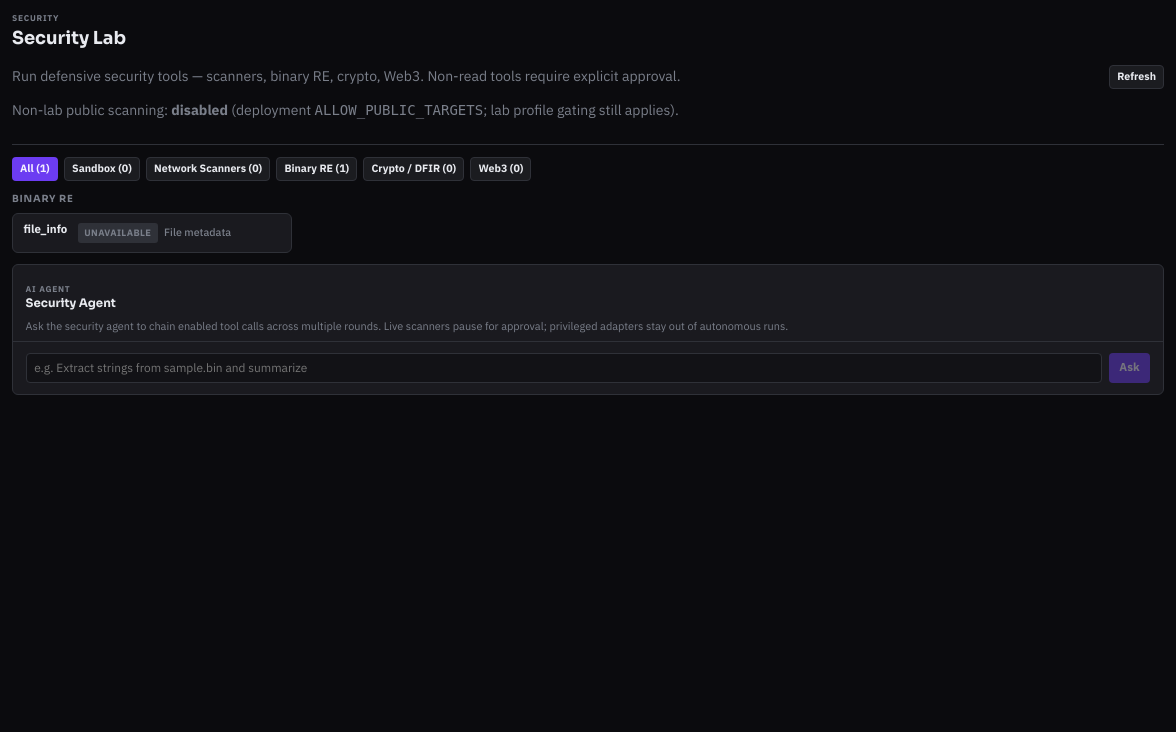
Scenario: Security Lab capability gating › fails closed when an older capability matrix omits readiness
Click the text "file_info" at (45, 229), box [24,223,67,236]
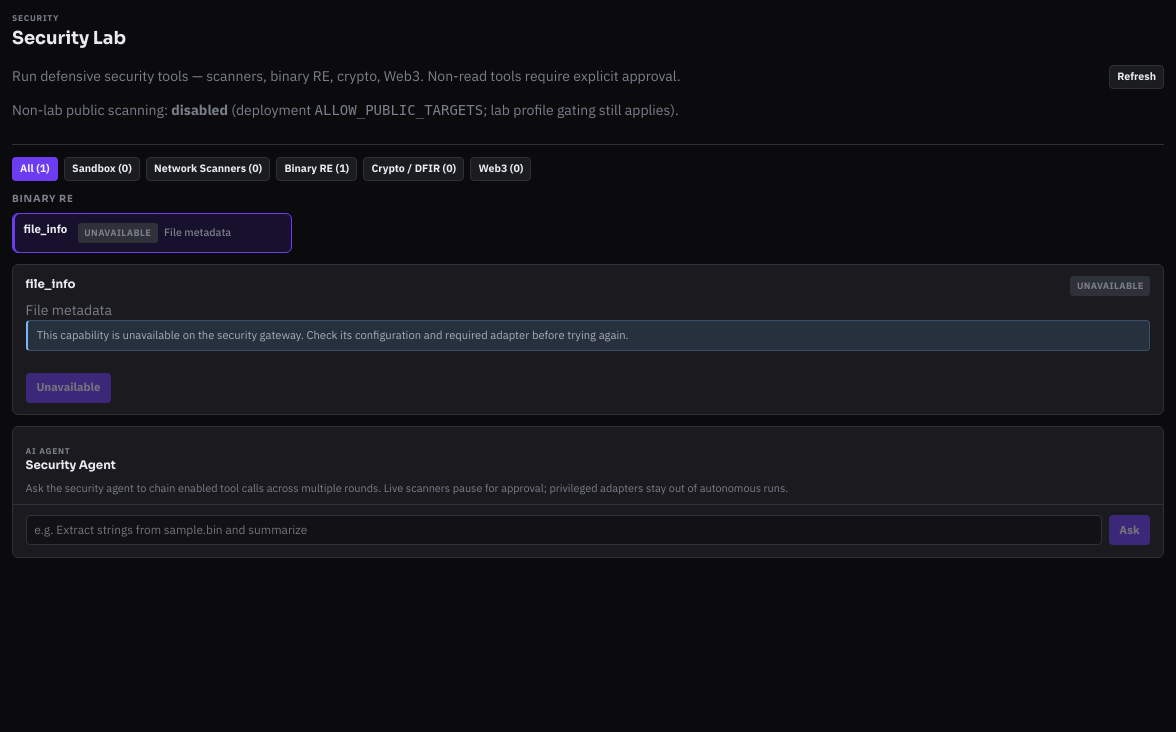
Result: the button "Unavailable" is disabled at [26,373,111,403]
